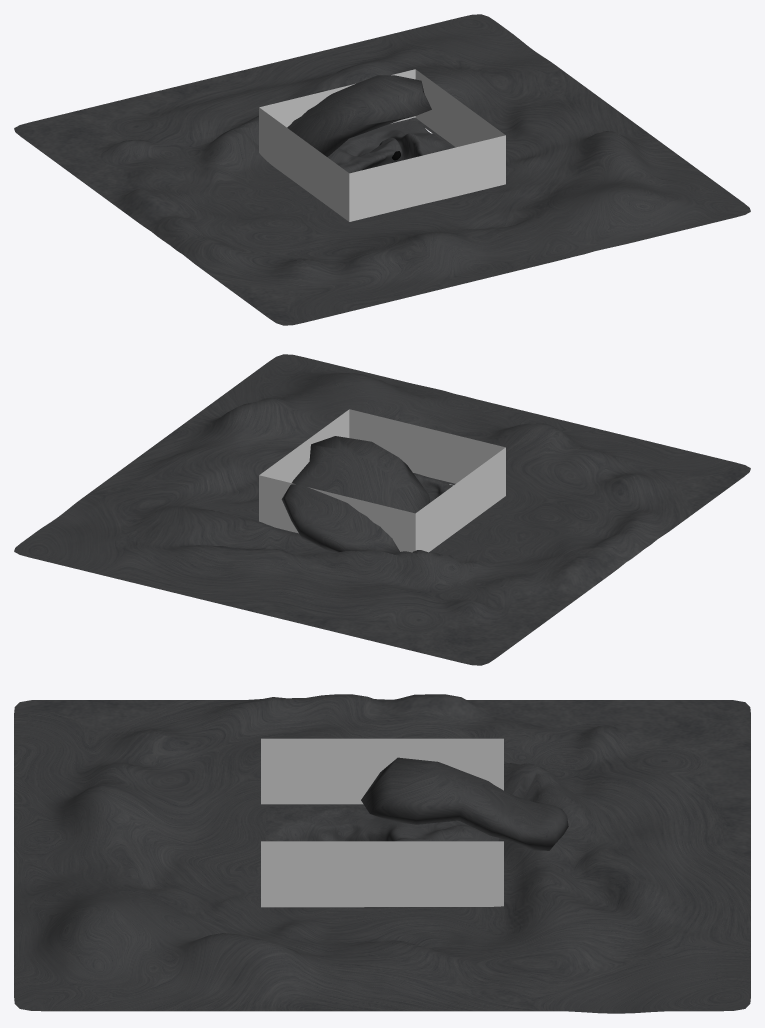
Rendered from TerrenoPrueba.fbx.
3 renders of one model, top to bottom at view 1: azimuth 30°, elevation 25°; view 2: azimuth 150°, elevation 25°; view 3: azimuth 270°, elevation 25°, orthographic. The views are drawn at different scales.
Visible parts, largest first — view 1: OuterBounds, Wall, Plane; view 2: OuterBounds, Wall; view 3: OuterBounds, Wall, Plane.
Part boxes in pixels (bbox=[...]): OuterBounds: bbox=[14, 14, 750, 325]; Wall: bbox=[259, 69, 505, 221]; Plane: bbox=[327, 120, 451, 173]; OuterBounds: bbox=[14, 354, 750, 665]; Wall: bbox=[259, 409, 505, 552]; OuterBounds: bbox=[14, 694, 750, 1013]; Wall: bbox=[261, 738, 503, 907]; Plane: bbox=[266, 806, 498, 841].
Bounding box in the file's own units: 120921 × 22474 × 120778.
